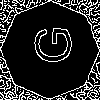G: (25, 25, 72, 65)
